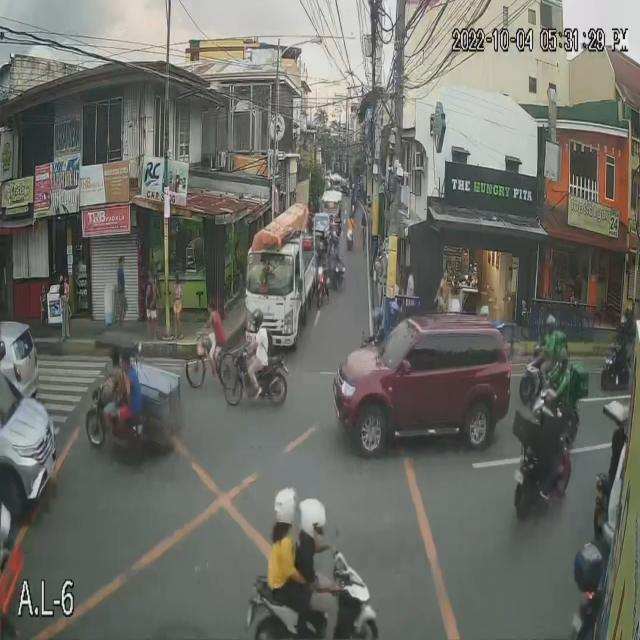full: (299, 498, 326, 544), (544, 387, 560, 418), (558, 348, 568, 374), (251, 309, 264, 329), (546, 314, 556, 334)
half: (272, 486, 298, 532)
